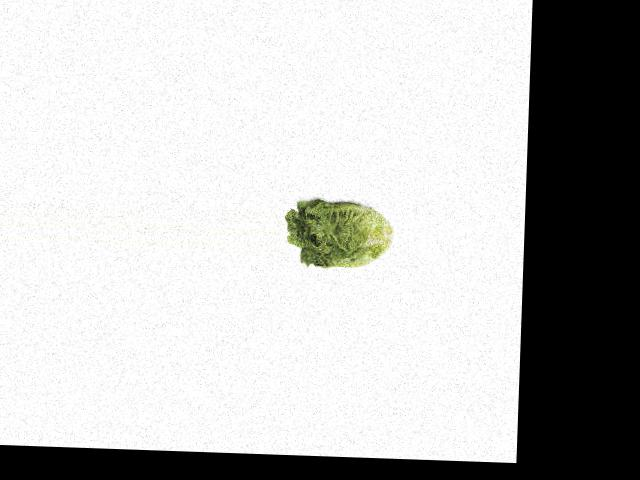lettuce: (286, 193, 394, 276)
